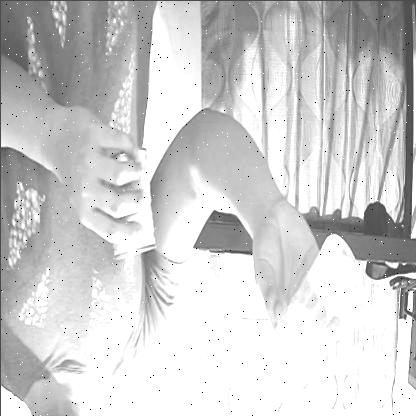Plastic Bottle: (231, 197, 372, 397)
